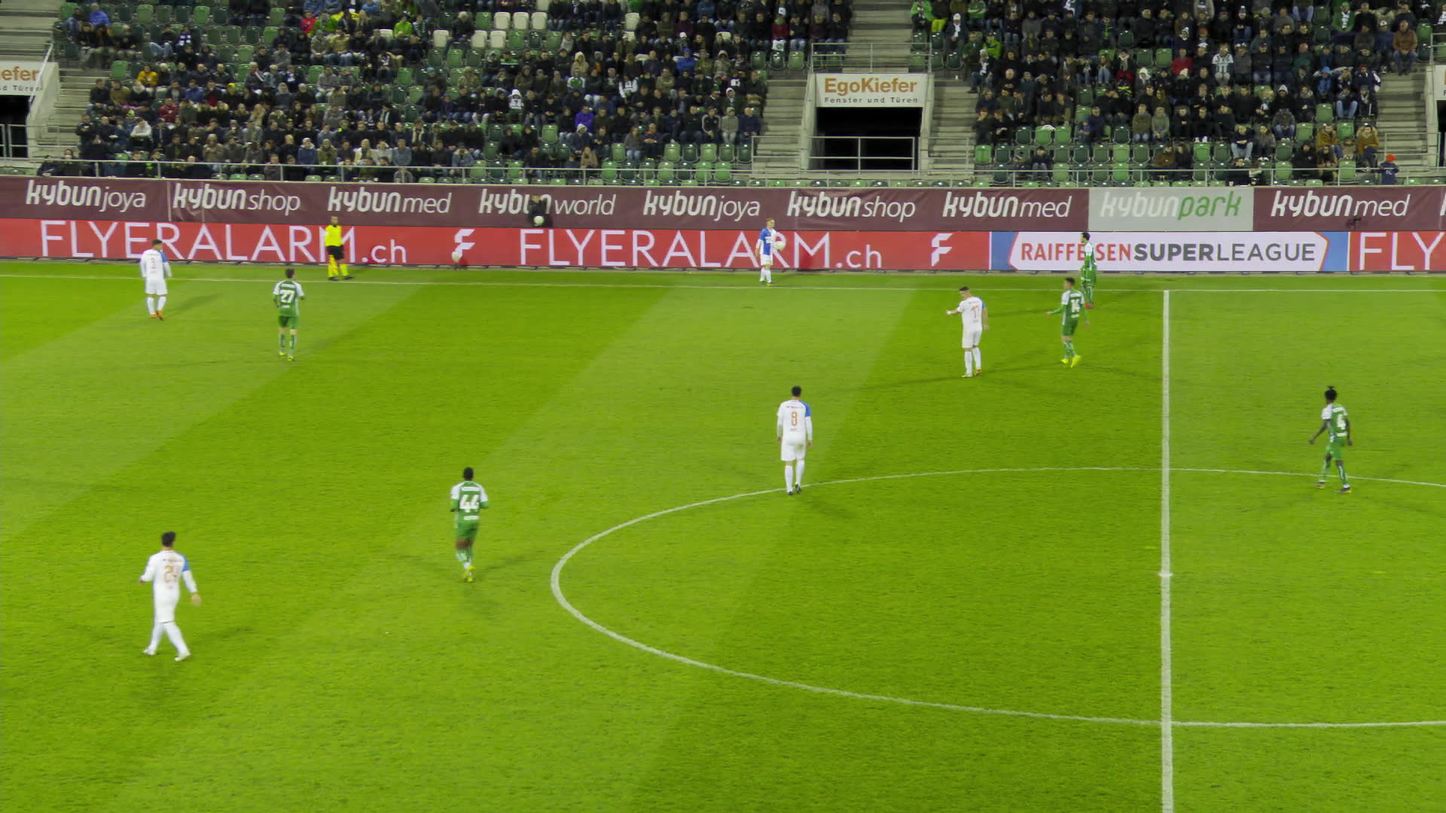ball: (773, 241, 782, 251)
player: (141, 529, 201, 660), (446, 467, 489, 590), (767, 391, 807, 504), (1318, 386, 1356, 495), (260, 269, 298, 364), (948, 286, 985, 379), (1051, 280, 1088, 370), (139, 238, 173, 321), (748, 217, 779, 285), (1077, 232, 1096, 308)
referee: (319, 214, 346, 279)
